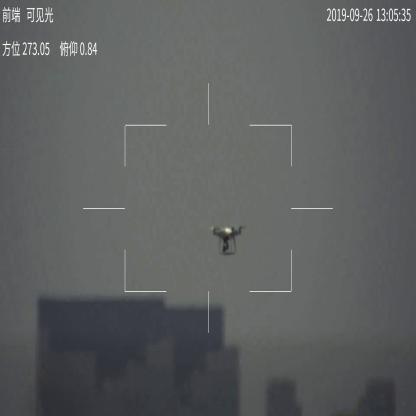uav: (208, 222, 248, 256)
